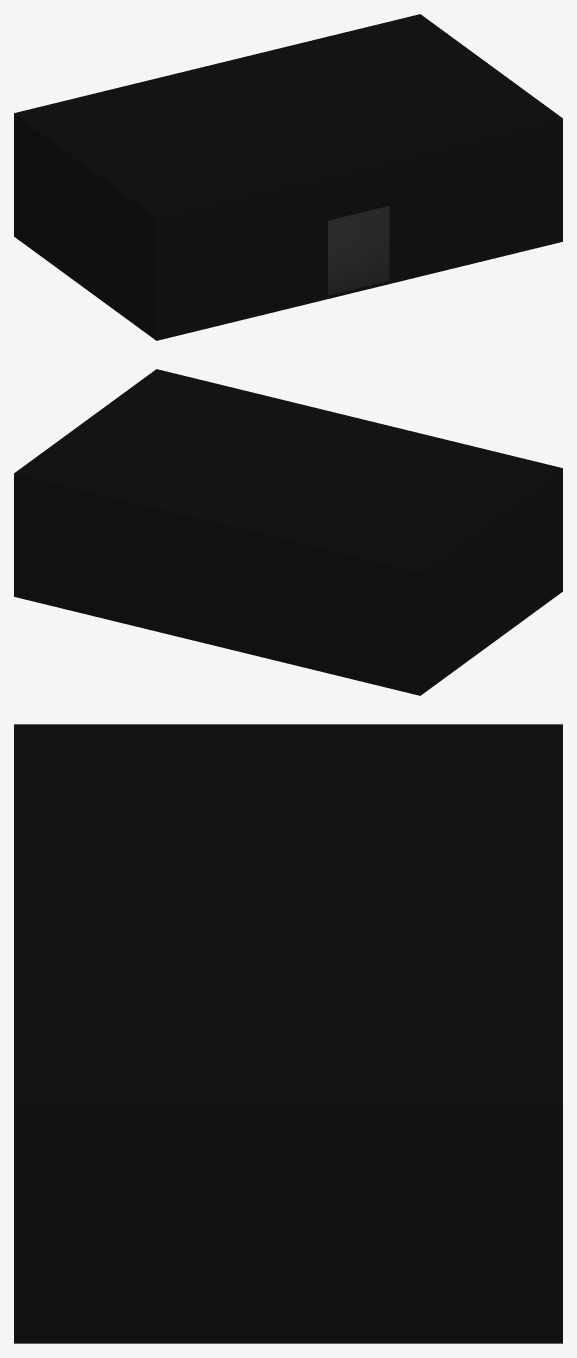
Rendered from WT_Room_50x30_Four_Screens.glb.
3 views of the same model, one above another, from view 1: azimuth 30°, elevation 25°; view 2: azimuth 150°, elevation 25°; view 3: azimuth 270°, elevation 25° (orthographic). The views are drawn at different scales.
Parts seen in each view (by area): view 1: Ceiling_Shell, Wall_Rear_Right, Wall_Rear_Left, Wall_Left, Floor, Entry_Header, Wall_Right; view 2: Ceiling_Shell, Wall_Front, Wall_Left, Floor, Wall_Right; view 3: Ceiling_Shell, Wall_Right, Floor.
Boxes of the visible parts, x1,y1,x2,y2 form: Ceiling_Shell: (14,14,562,220); Wall_Rear_Right: (389,122,558,280); Wall_Rear_Left: (160,179,327,336); Wall_Left: (14,117,160,337); Floor: (14,206,562,340); Entry_Header: (328,163,391,220); Wall_Right: (559,122,562,239); Ceiling_Shell: (14,369,562,575); Wall_Front: (18,477,416,691); Wall_Left: (416,472,562,692); Floor: (14,588,562,695); Wall_Right: (14,477,17,594); Ceiling_Shell: (14,724,562,1112); Wall_Right: (14,1112,562,1337); Floor: (14,1337,562,1343).
Size of the model in its own units: 15.54 by 4.51 by 9.44.
34 materials, 21 textured.
